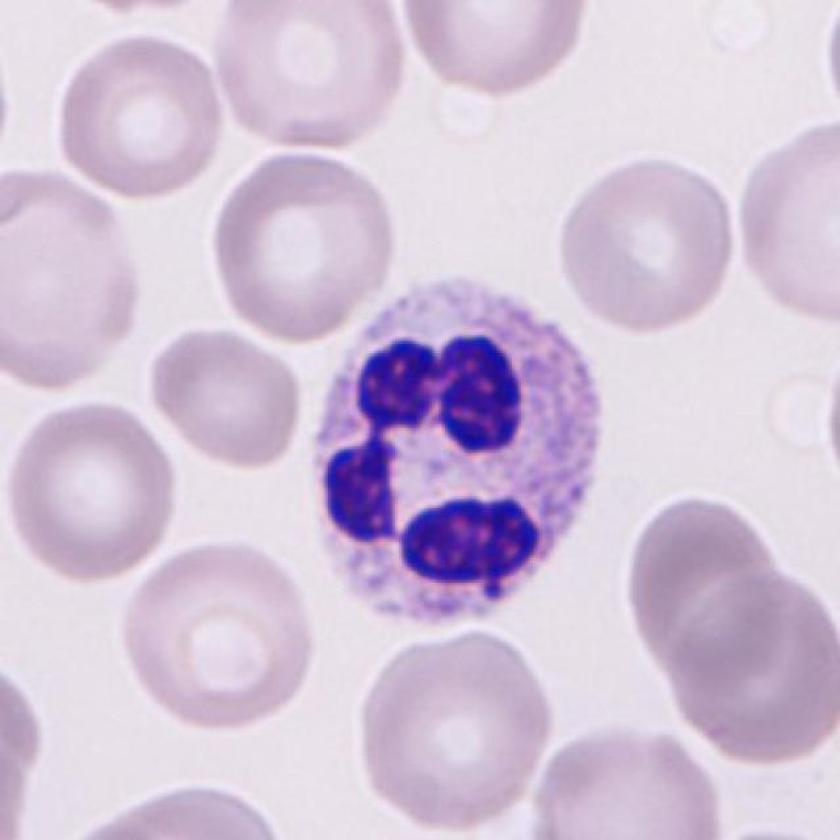neutrophil: (312, 277, 609, 635)
